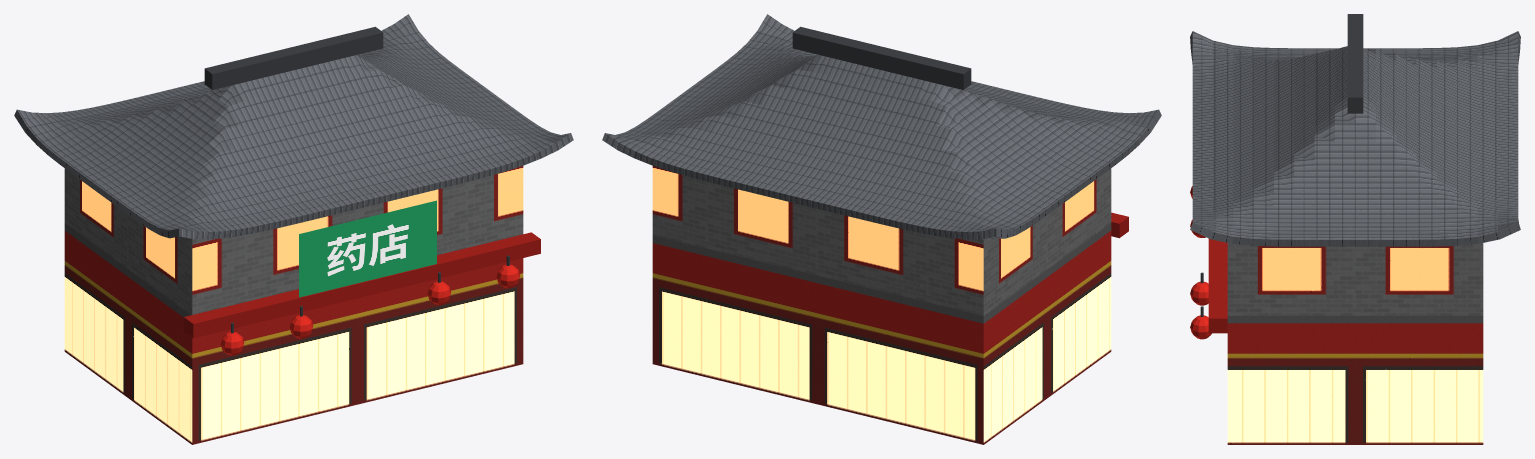
The model's file is chn_shop_c.glb.
The picture shows the model from 3 angles, left to right: view 1: azimuth 30°, elevation 25°; view 2: azimuth 150°, elevation 25°; view 3: azimuth 270°, elevation 25°; orthographic projection.
Visible parts, largest first — view 1: croof; view 2: croof; view 3: croof.
Part boxes in pixels (box(x1,y1,x2,y2)): croof: box(14, 14, 573, 444); croof: box(602, 14, 1161, 444); croof: box(1190, 14, 1520, 444).
Bounding box in the file's own units: 14.3 × 10.65 × 10.36.
Materials: 7 (4 with a texture image).
